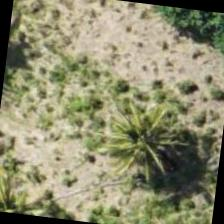Kelapa_Sawit: (109, 105, 209, 205)
